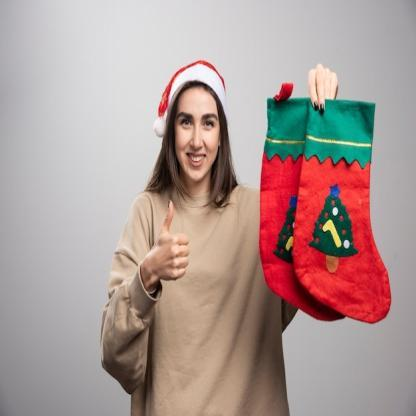thumb_up: (151, 198, 192, 286)
